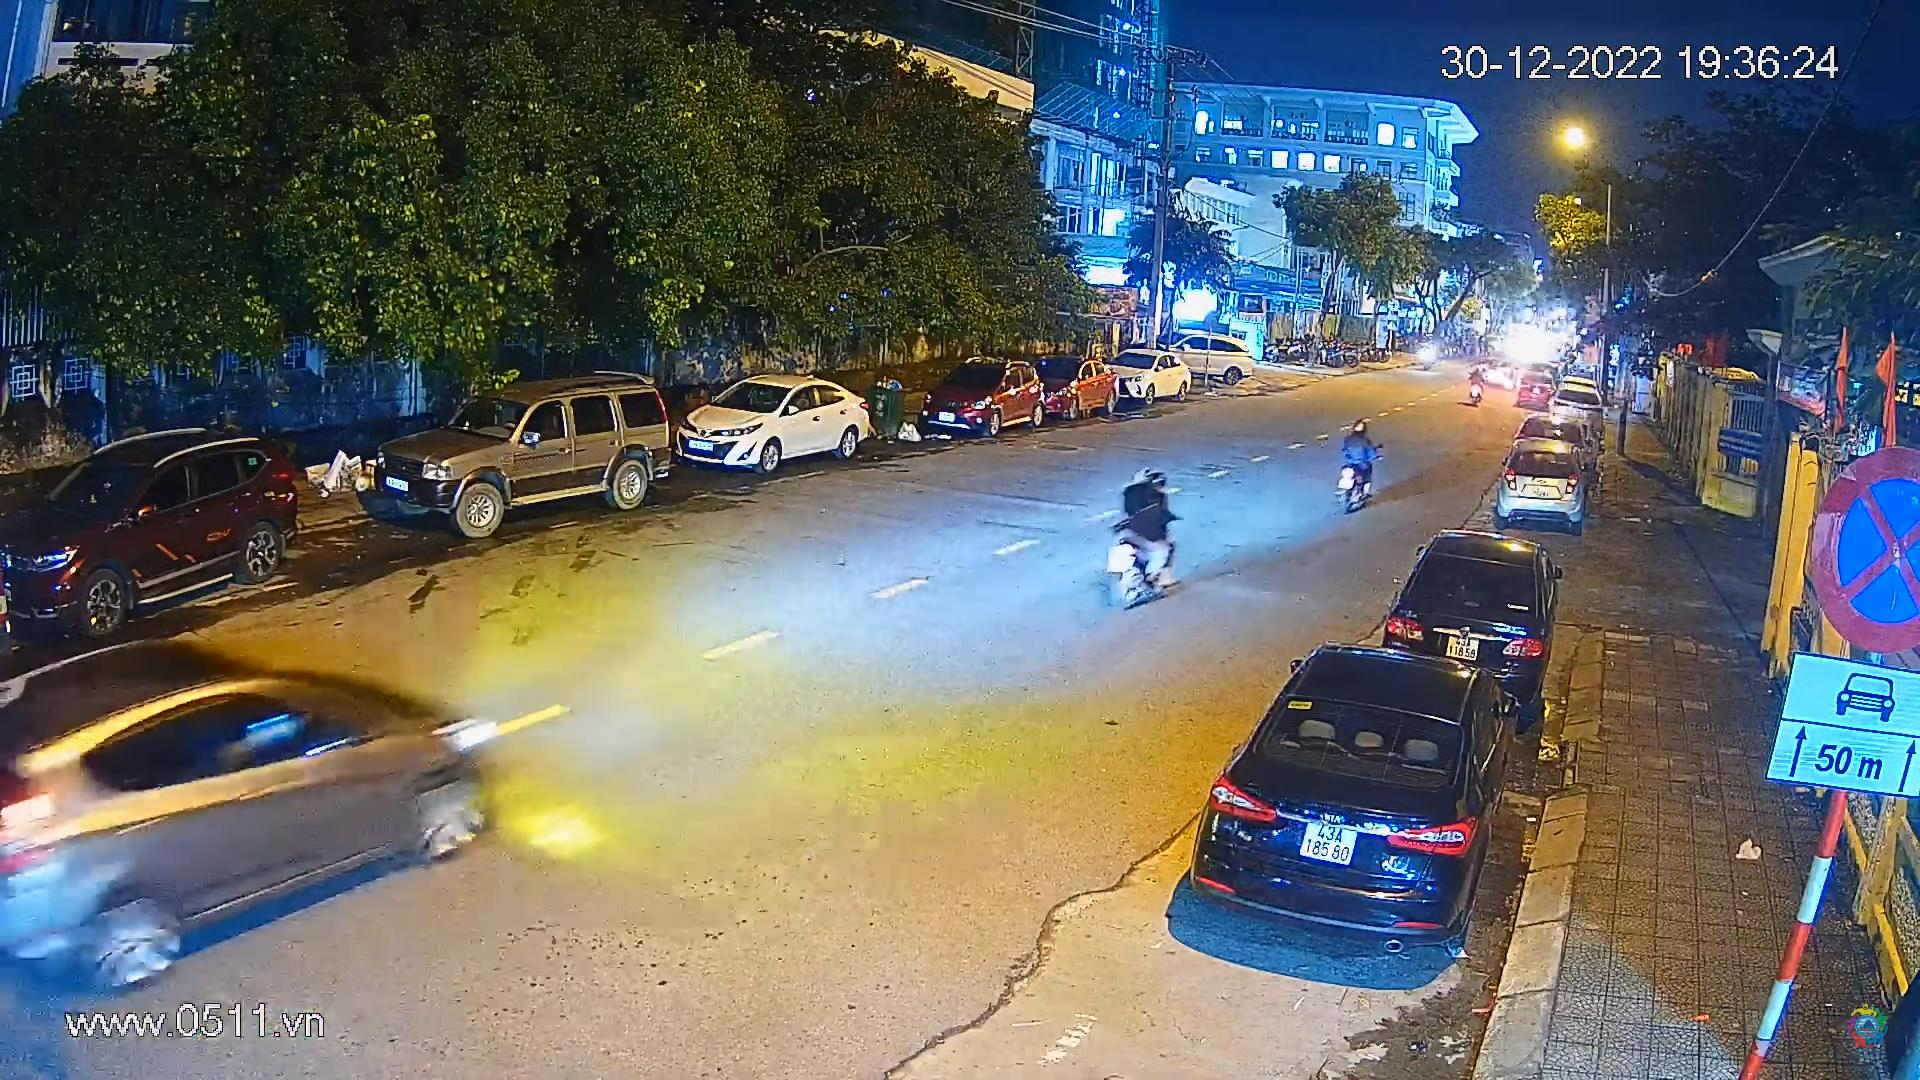car: (0, 620, 542, 998), (1183, 633, 1516, 959), (0, 425, 301, 642), (364, 364, 675, 537), (1381, 522, 1567, 713), (659, 363, 876, 472), (911, 352, 1048, 442), (1494, 429, 1592, 541), (1019, 332, 1124, 426), (1151, 330, 1269, 390), (1101, 330, 1188, 406), (1520, 411, 1596, 459), (1553, 384, 1605, 436), (1516, 365, 1552, 414)
motorcycle: (1093, 456, 1191, 617), (1329, 407, 1385, 521), (1451, 363, 1495, 411)
